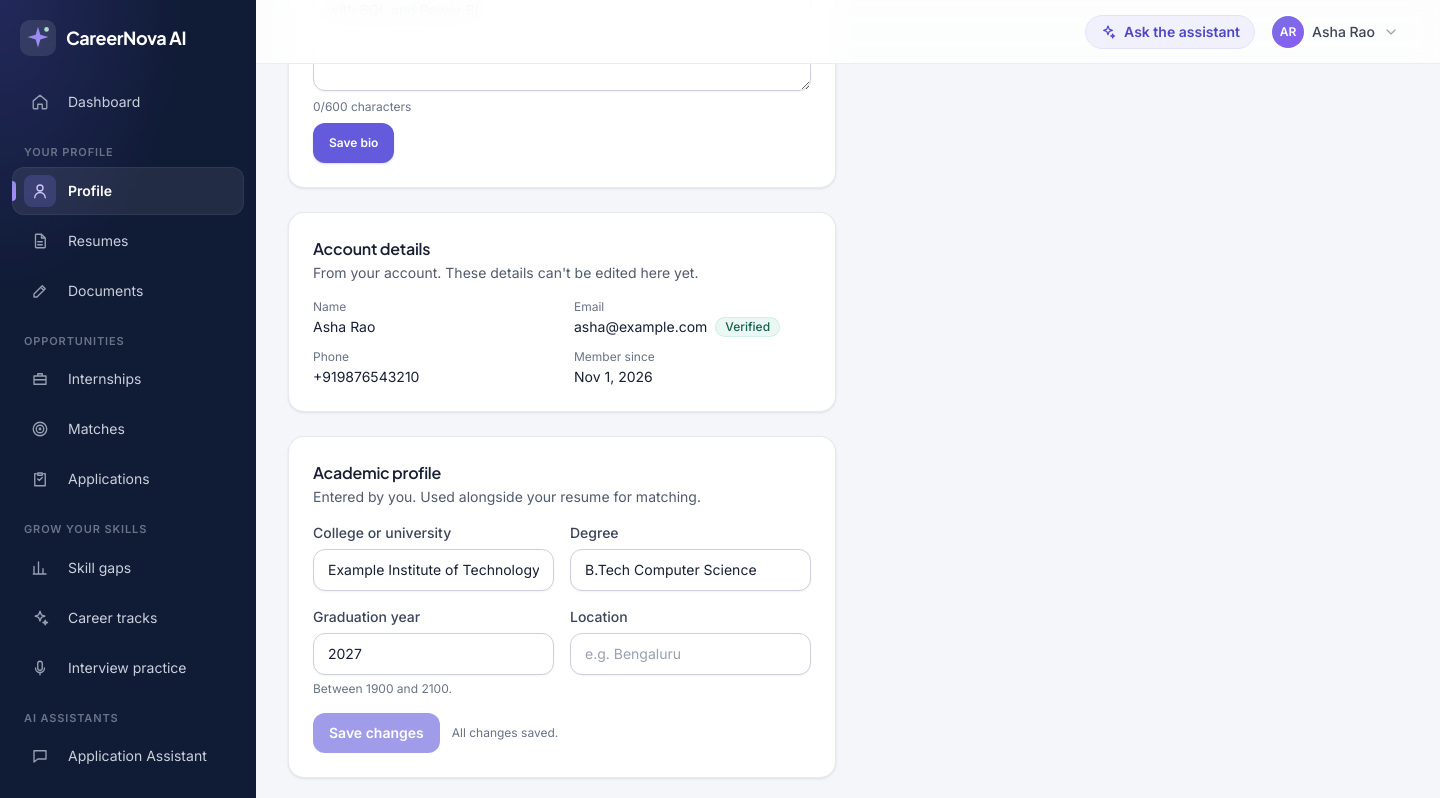
it: Profile: existing profile › validates fields like the backend before saving
The width and height of the screenshot is (1440, 798).
(page scrolled)
Replace the text in the field labelled "Graduation year" with "1850" at (434, 654), box x1=313 y1=633 x2=554 y2=675
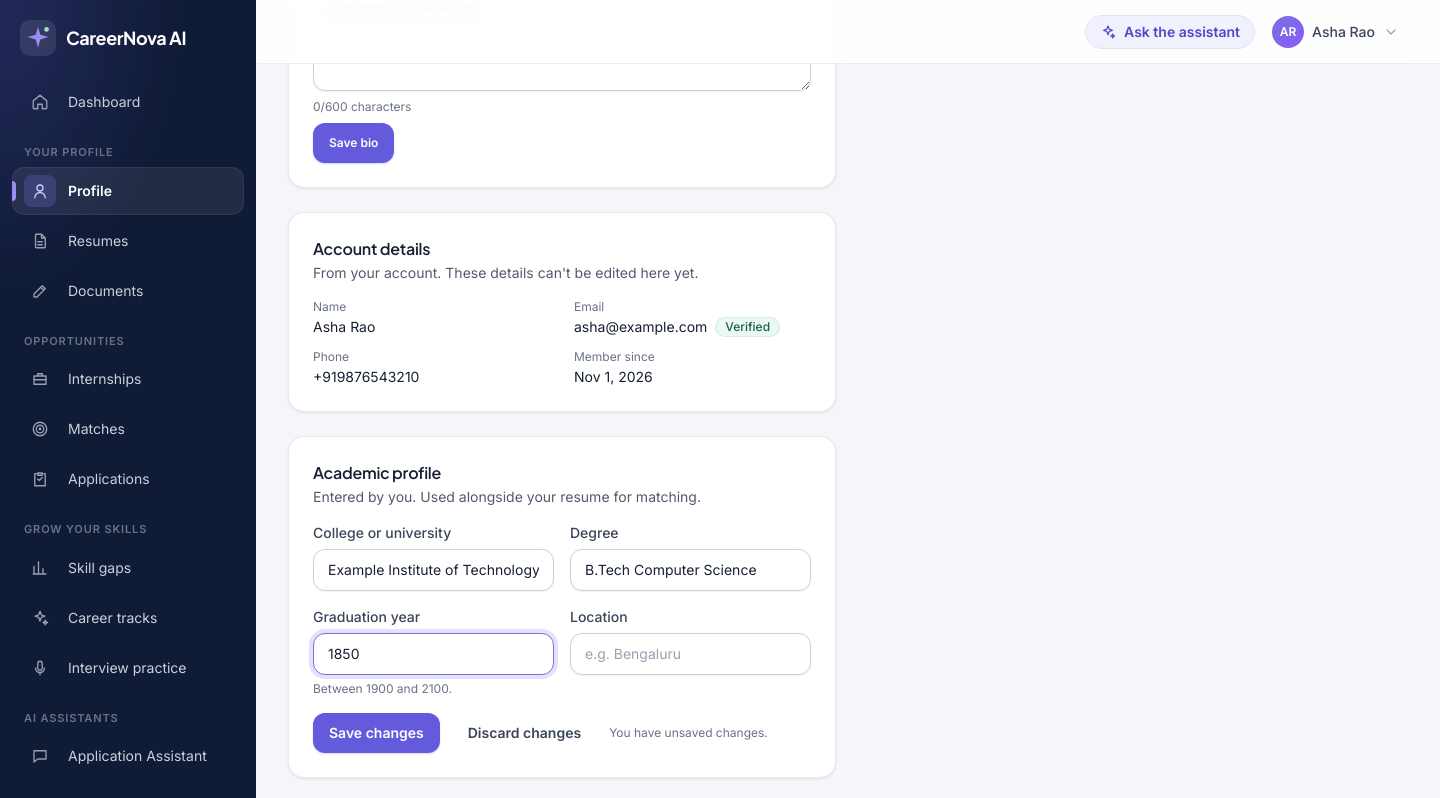
Click the button "Save changes" at (376, 733), box x1=313 y1=713 x2=440 y2=753
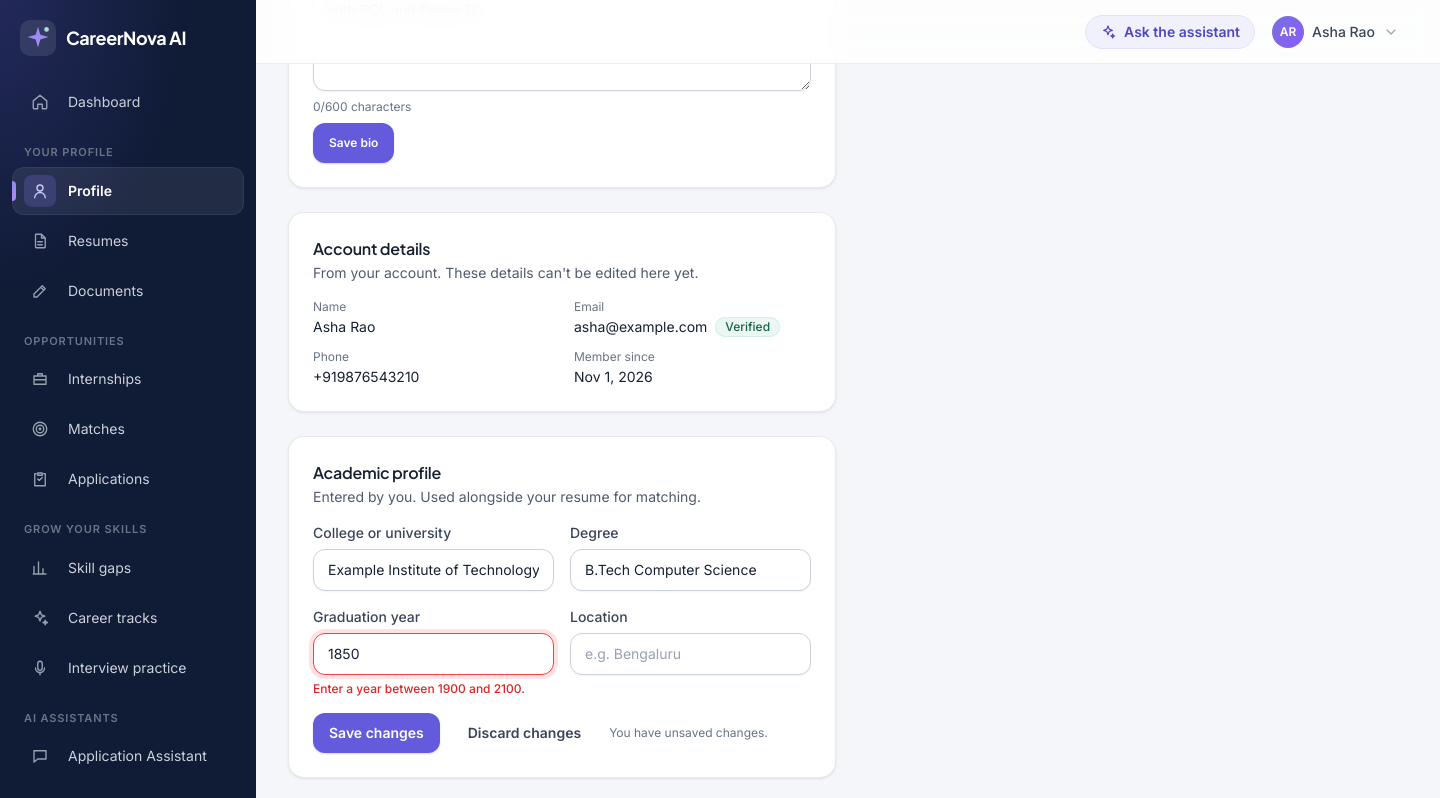
Expected: the text "Enter a year between 1900 and 2100." is shown, x1=313 y1=681 x2=554 y2=697
Replace the text in the field labelled "Graduation year" with "20x7" at (434, 654), box x1=313 y1=633 x2=554 y2=675
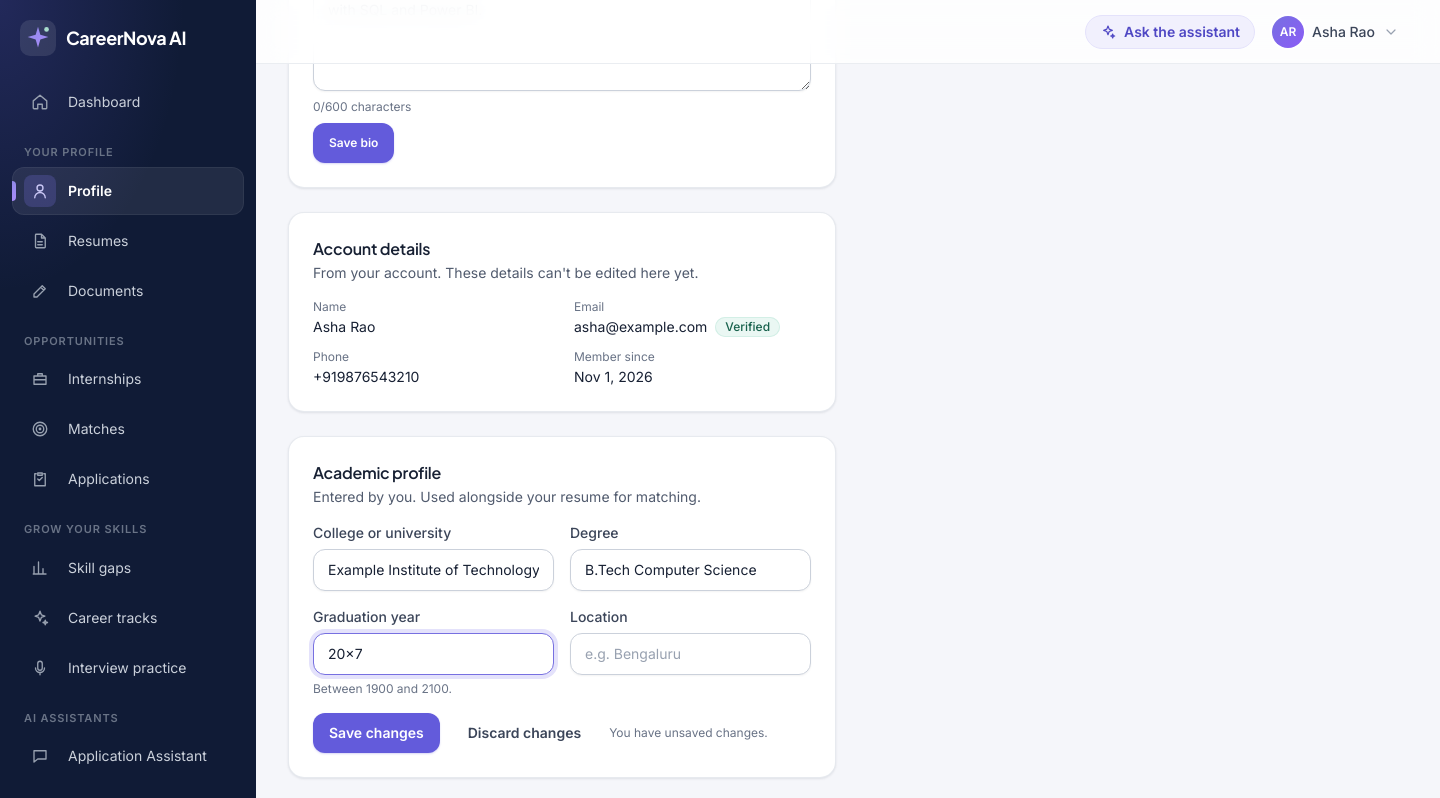
Click the button "Save changes" at (376, 733), box x1=313 y1=713 x2=440 y2=753
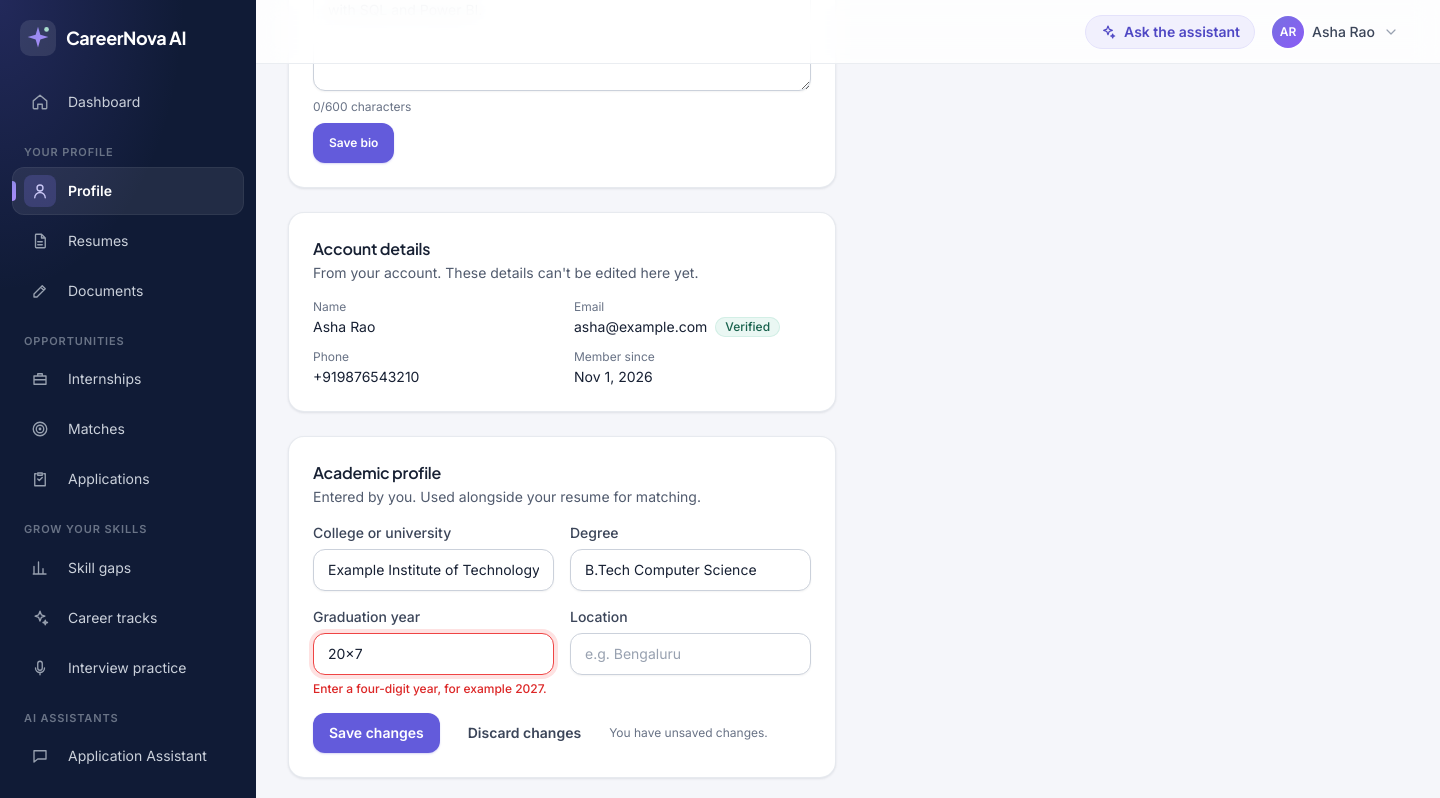
Expected: the text "Enter a four-digit year, for example 2027." is shown, x1=313 y1=681 x2=554 y2=697
